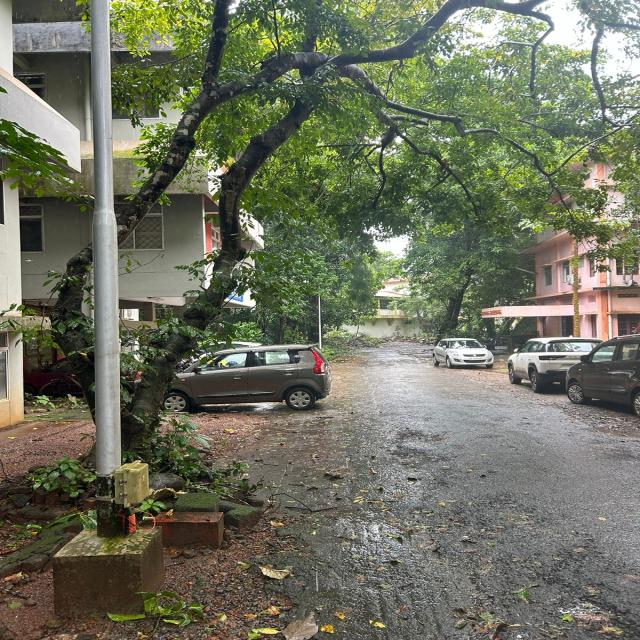car ahead at: (180, 347, 334, 408)
electric pole ahead at: (65, 0, 141, 508)
